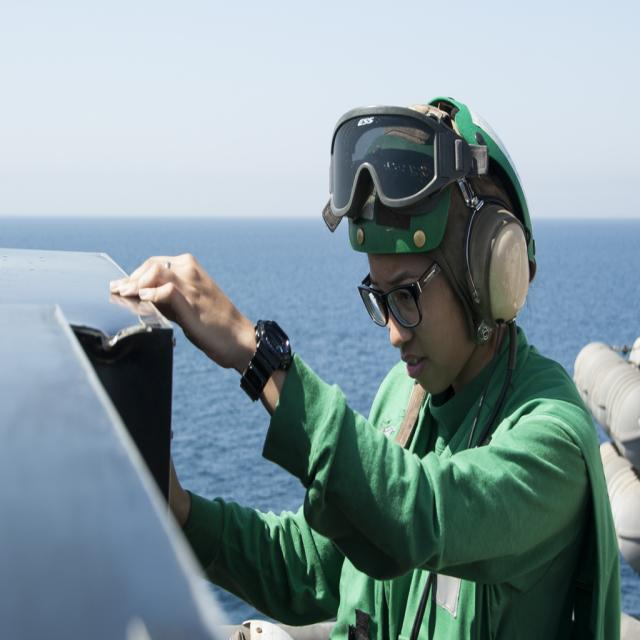Glasses: (356, 263, 441, 325)
